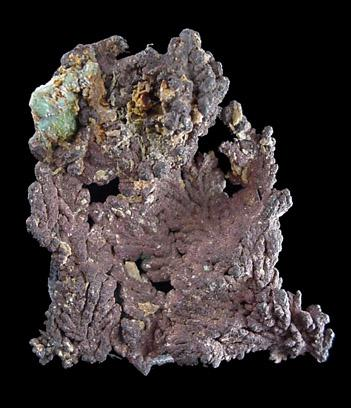copper: (27, 30, 334, 374)
